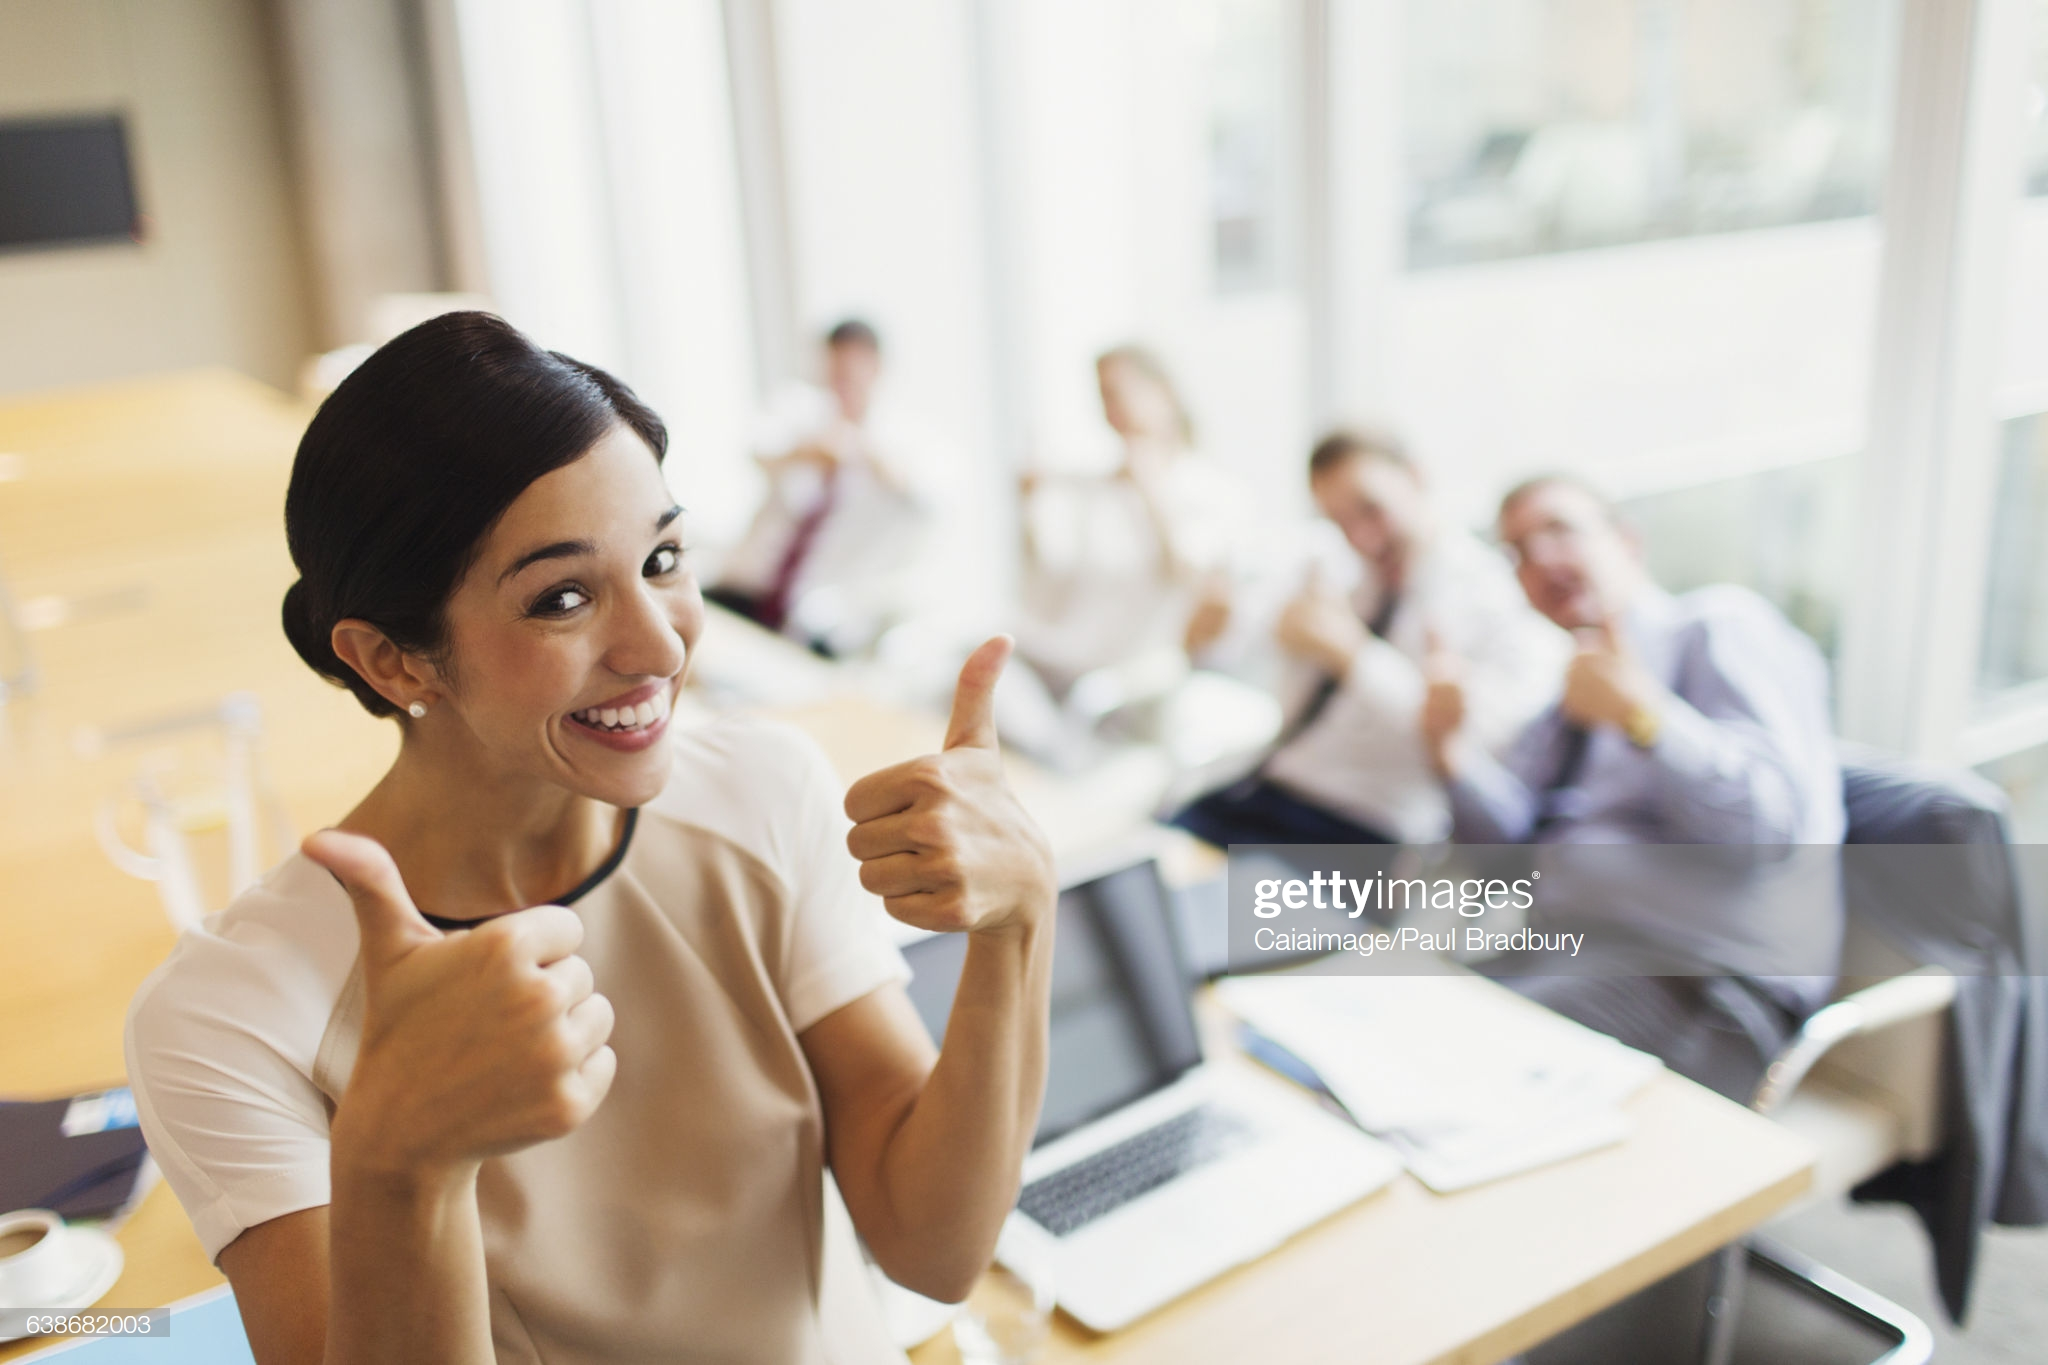thumbsup: (300, 829, 618, 1136), (841, 634, 1016, 935)
